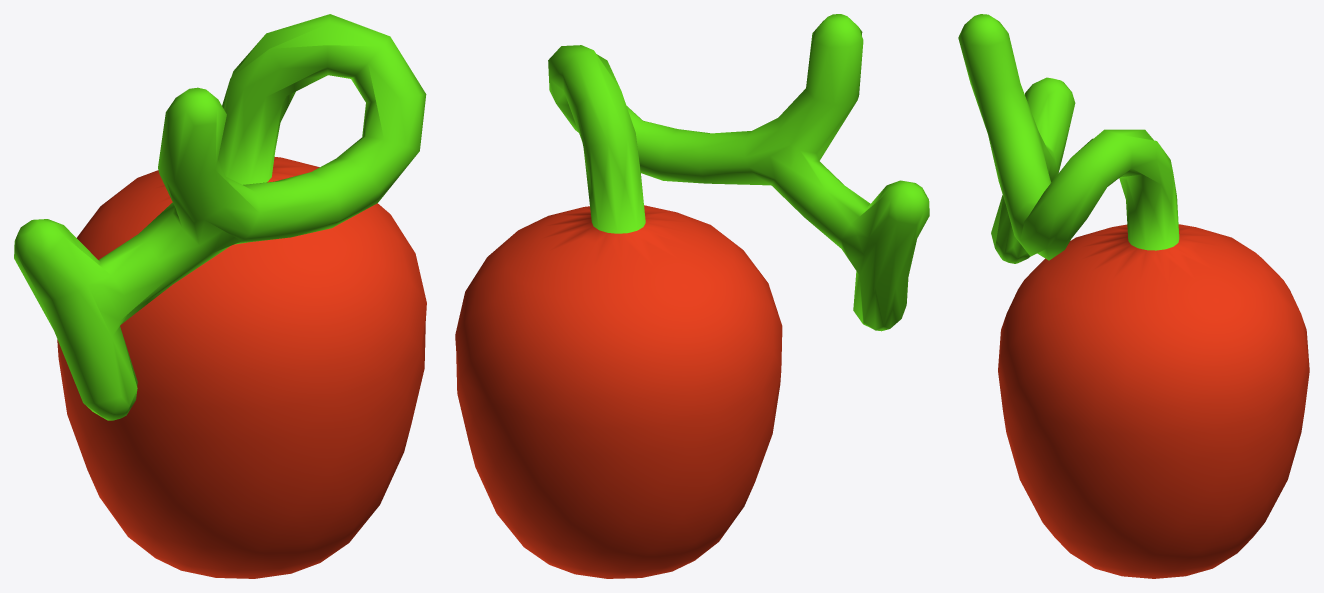
Rendered from Baccaliegia.fbx.
3 renders of one model, left to right at view 1: azimuth 30°, elevation 25°; view 2: azimuth 150°, elevation 25°; view 3: azimuth 270°, elevation 25°, orthographic. The views are drawn at different scales.
Visible parts, largest first — view 1: Baccaliegia; view 2: Baccaliegia; view 3: Baccaliegia.
Part boxes in pixels (x1,y1,x2,y2): Baccaliegia: (14,14,426,578); Baccaliegia: (455,14,929,578); Baccaliegia: (958,14,1309,578).
Bounding box in the file's own units: 10.67 × 12.81 × 8.66.
